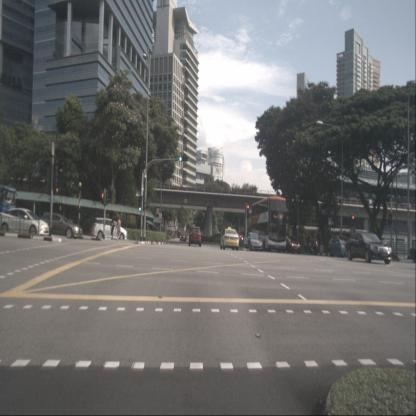human-pedestrian-adult: (115, 216, 122, 242), (110, 217, 115, 240), (146, 223, 150, 239)
vehicle-bus-rigid: (250, 196, 286, 253)
vehicle-car: (345, 232, 392, 264), (0, 207, 50, 237), (39, 212, 82, 240), (92, 217, 127, 241), (328, 234, 352, 258), (220, 228, 239, 251), (246, 232, 263, 252), (282, 236, 300, 254), (189, 226, 201, 247), (180, 233, 186, 242)
vehicle-motorcycle: (310, 233, 318, 255)
vehicle-truck: (0, 184, 16, 227)
